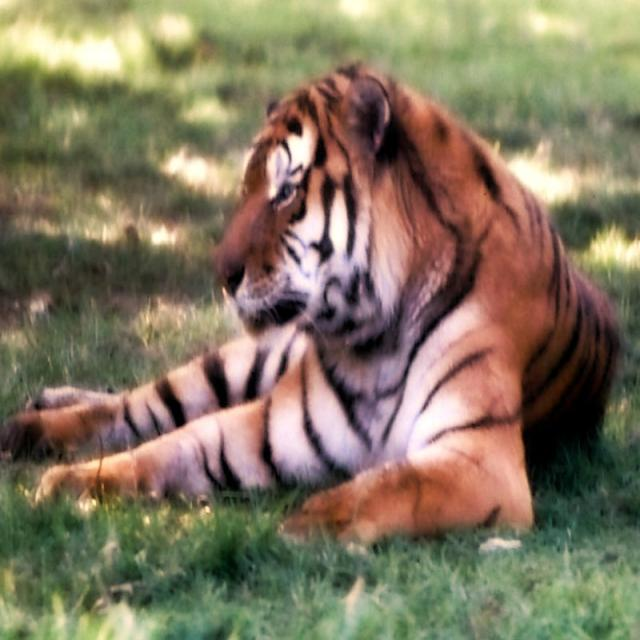Tiger: (11, 62, 622, 546)
